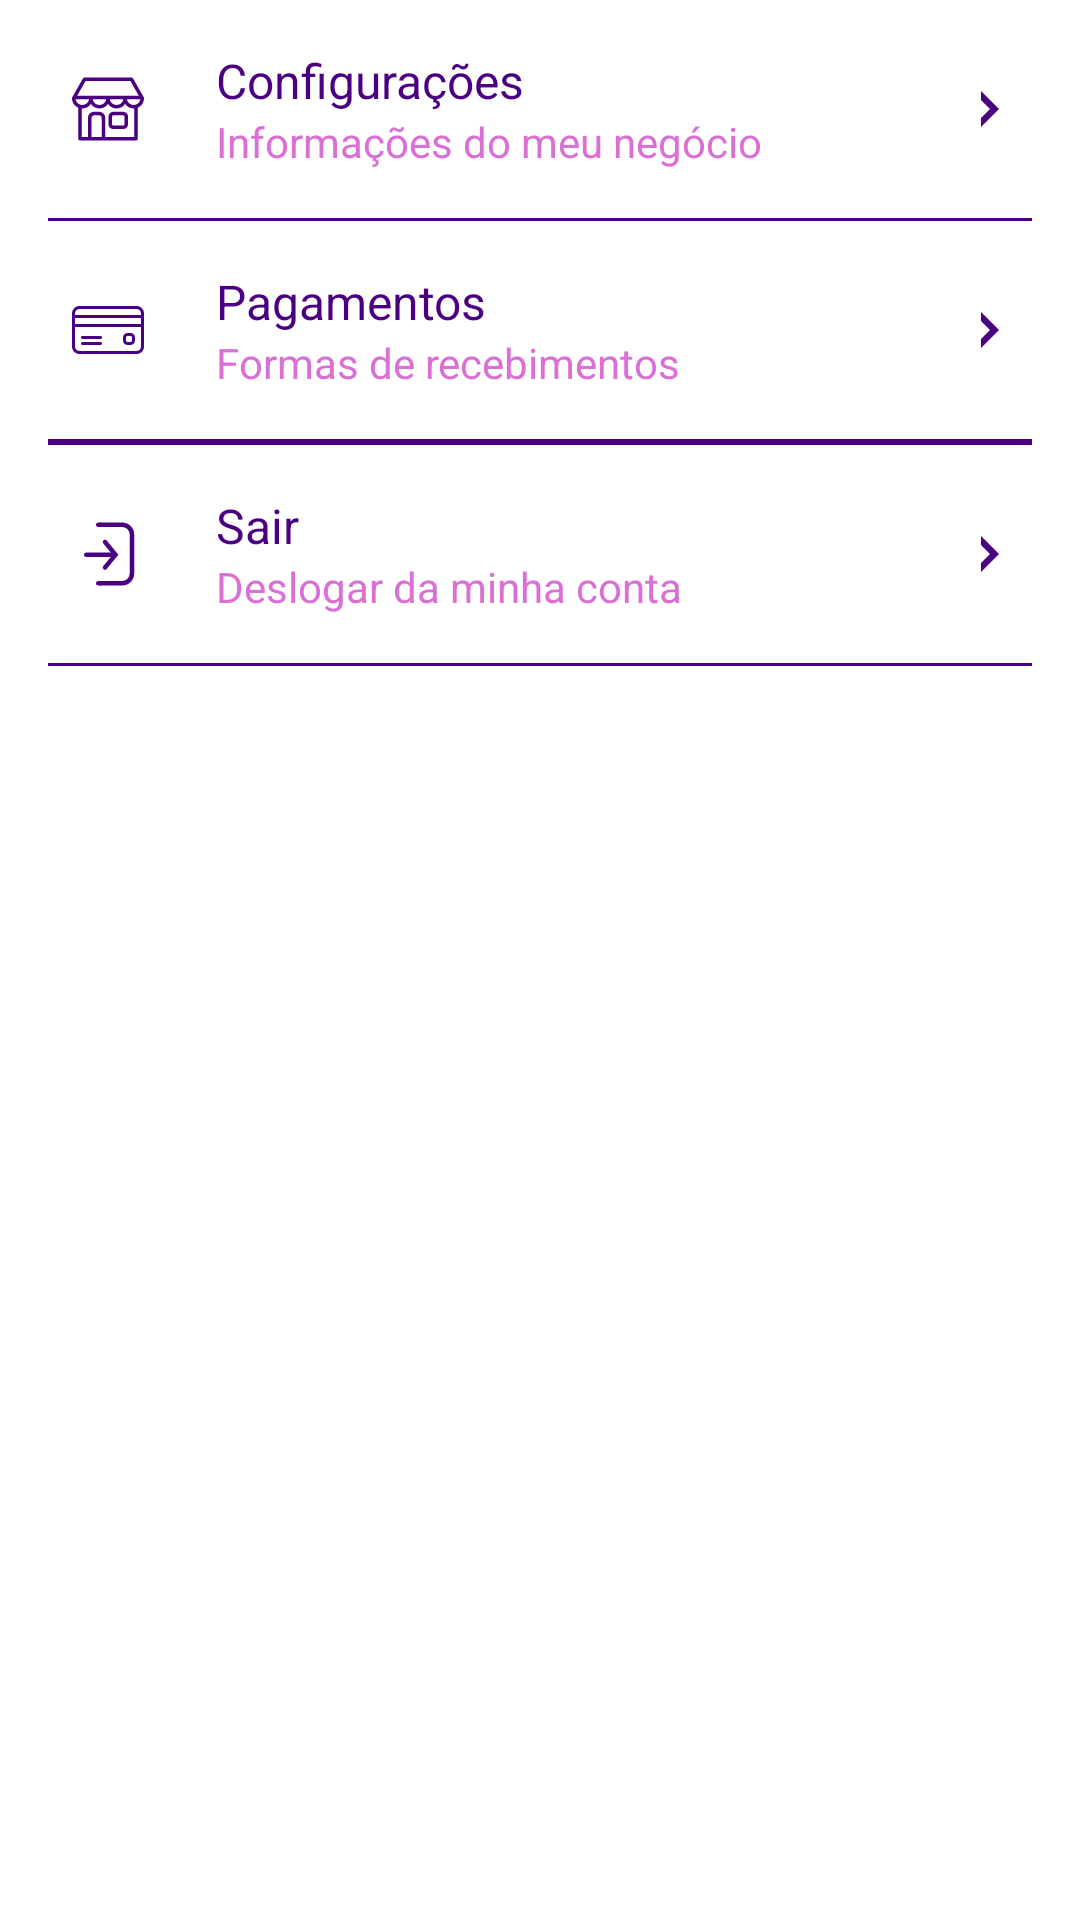

Screen size 1080*1920. Icon name, then its box in pixels as detection(x1, y1, x2, y2):
empresa: detection(72, 77, 144, 141)
seta direita: detection(981, 91, 999, 127), detection(981, 312, 999, 348), detection(981, 536, 999, 572)
